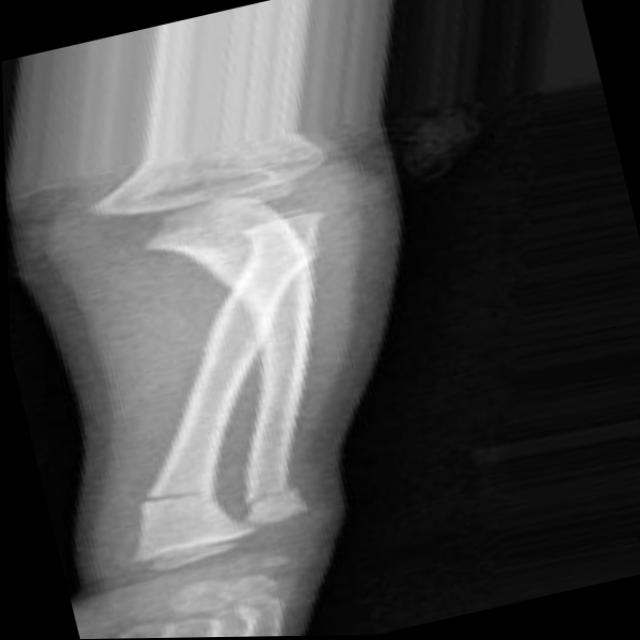fracture: (193, 166, 345, 258)
